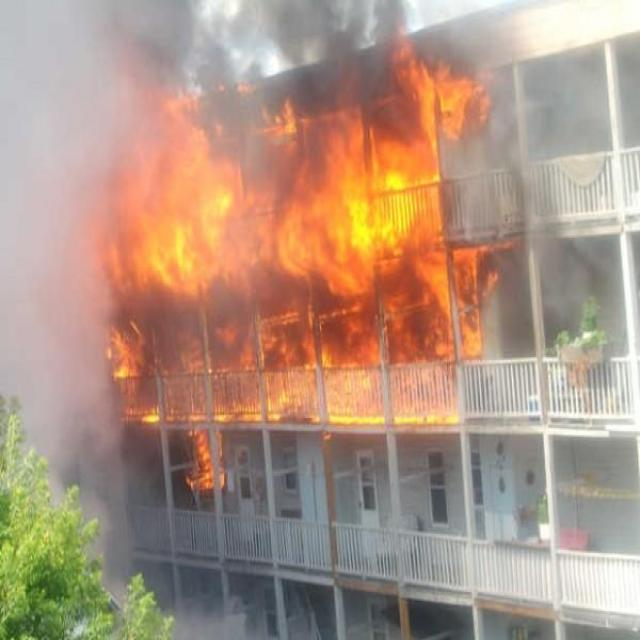Fire: (109, 22, 528, 477)
